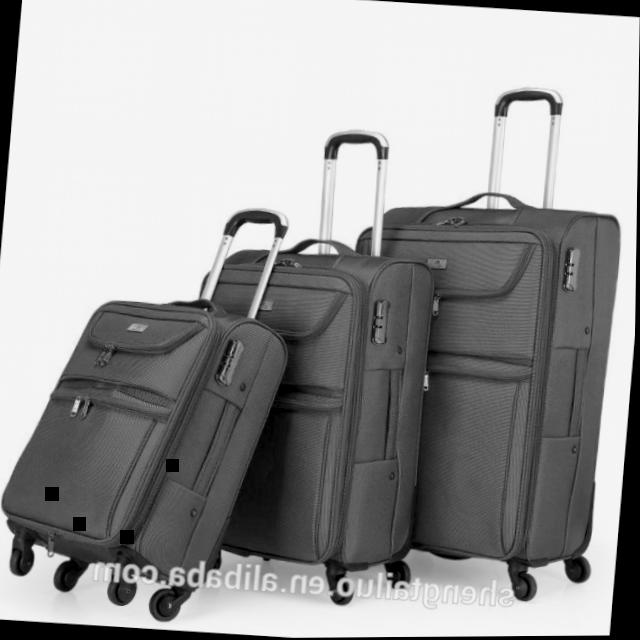luggage: (325, 177, 632, 582), (0, 280, 301, 623), (170, 226, 446, 596)
